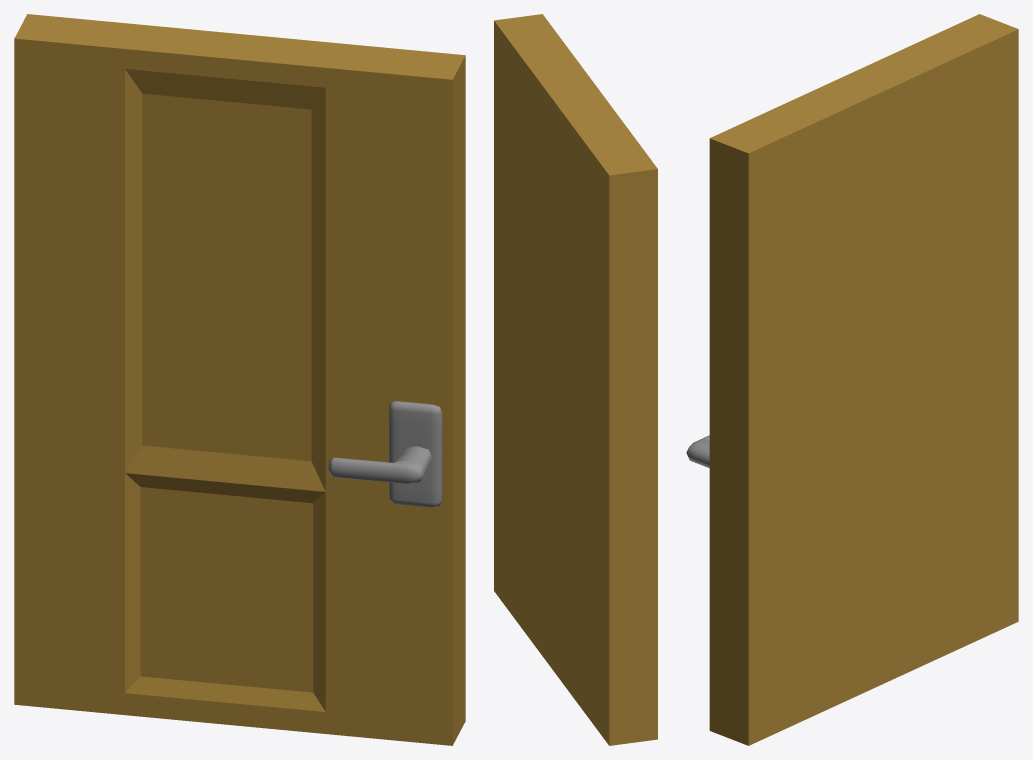
The model's file is door_1.fbx.
The picture shows the model from 3 angles, left to right: view 1: azimuth 30°, elevation 25°; view 2: azimuth 150°, elevation 25°; view 3: azimuth 270°, elevation 25°; orthographic projection. The views are drawn at different scales.
Parts seen in each view (by area): view 1: door3_pCube43; view 2: door3_pCube43; view 3: door3_pCube43.
Part boxes in pixels (box(x1,y1,x2,y2)): door3_pCube43: box(14, 14, 465, 745); door3_pCube43: box(494, 14, 657, 745); door3_pCube43: box(686, 14, 1018, 745).
Bounding box in the file's own units: 12.08 × 23.93 × 12.16.
